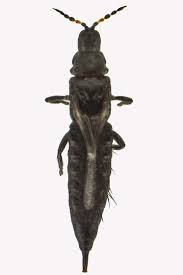Phlaeothripidae: (43, 4, 133, 275)
